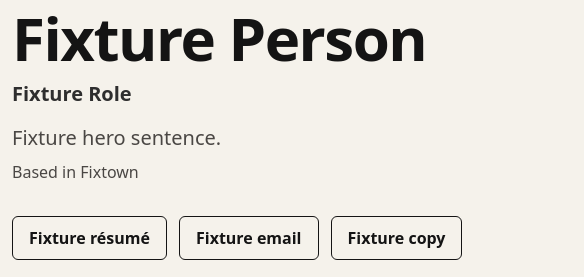
Test: Hero › copies the email address for visitors without a mail app
Click the button "Fixture copy": (396, 238) [330, 216, 462, 260]
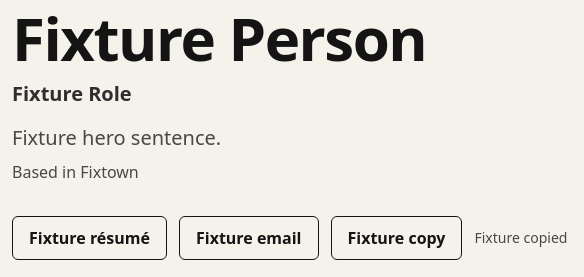
expect the text "Fixture copied" is shown: met, box [474, 228, 568, 248]
